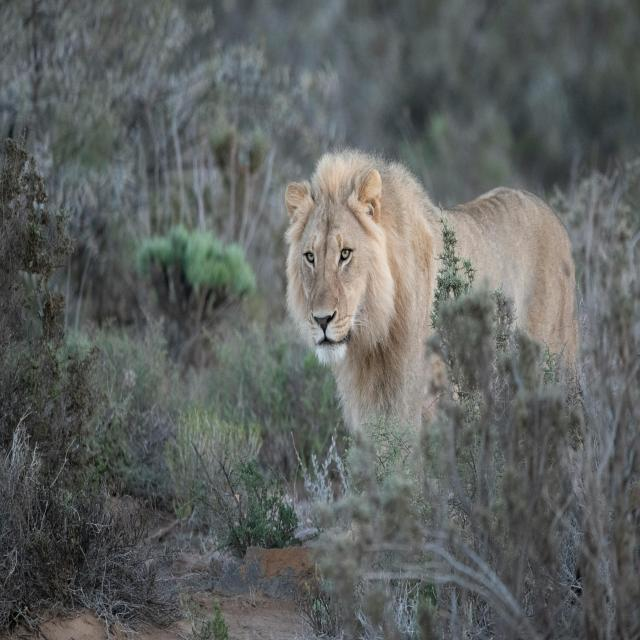Lion: (286, 150, 576, 428)
